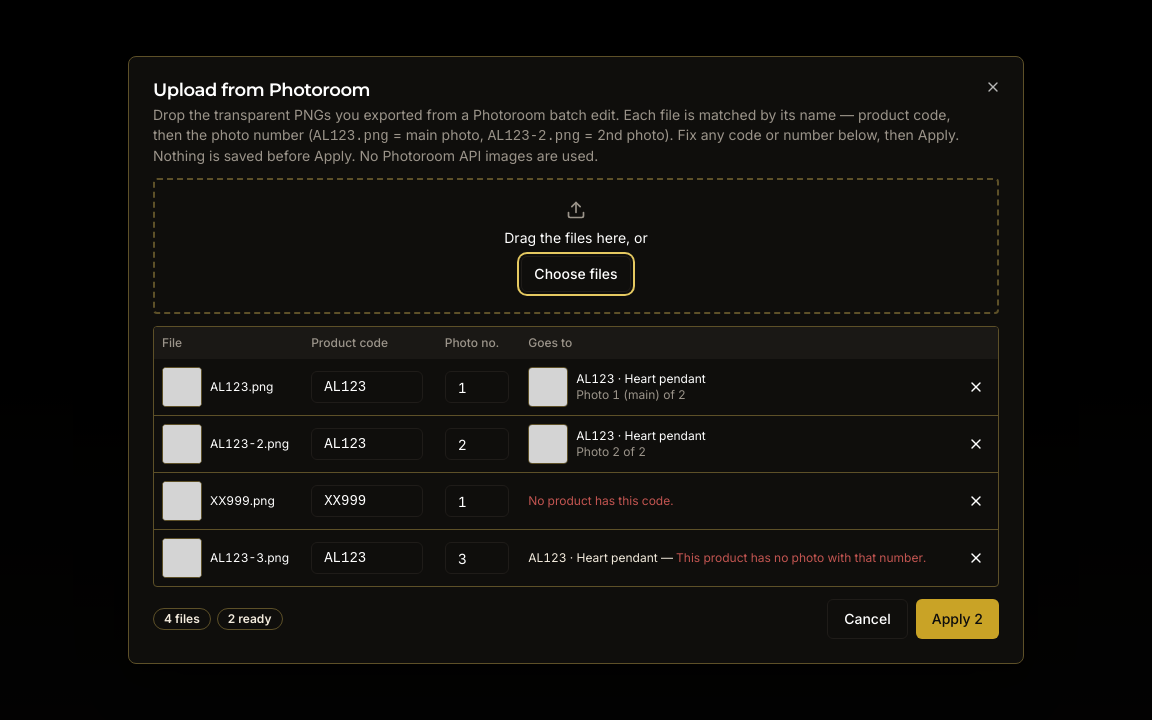
Upload from Photoroom window › matches by name, lets the code be edited, and applies only ready rows as own cut-outs
Earlier steps of the test are not shown.
Later steps or results of the test are not shown.
Expected: the number of rows with test id "bulk-row" is 4, [154, 359, 998, 416]; [154, 416, 998, 472]; [154, 472, 998, 530]; [154, 530, 998, 586]
Expected: the text "Photo 1 (main) of 2" is shown, [576, 387, 686, 402]
Step 1. Replace the text in the field named "Product code for XX999.png" with "al123" → (367, 501), box [311, 485, 423, 517]
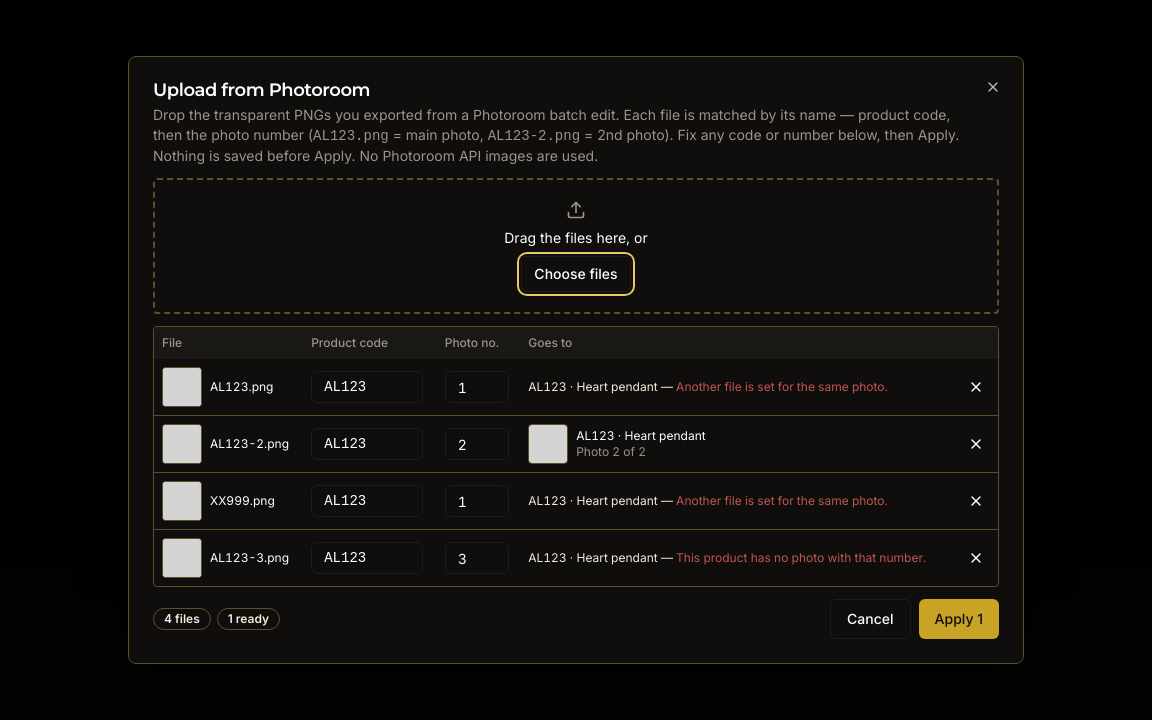
Result: the text "Another file is set for the same photo." in the row of "XX999.png" is shown at [676, 493, 888, 508]
Step 2. Click the button named "Remove XX999.png" → (976, 501), box [962, 487, 990, 515]
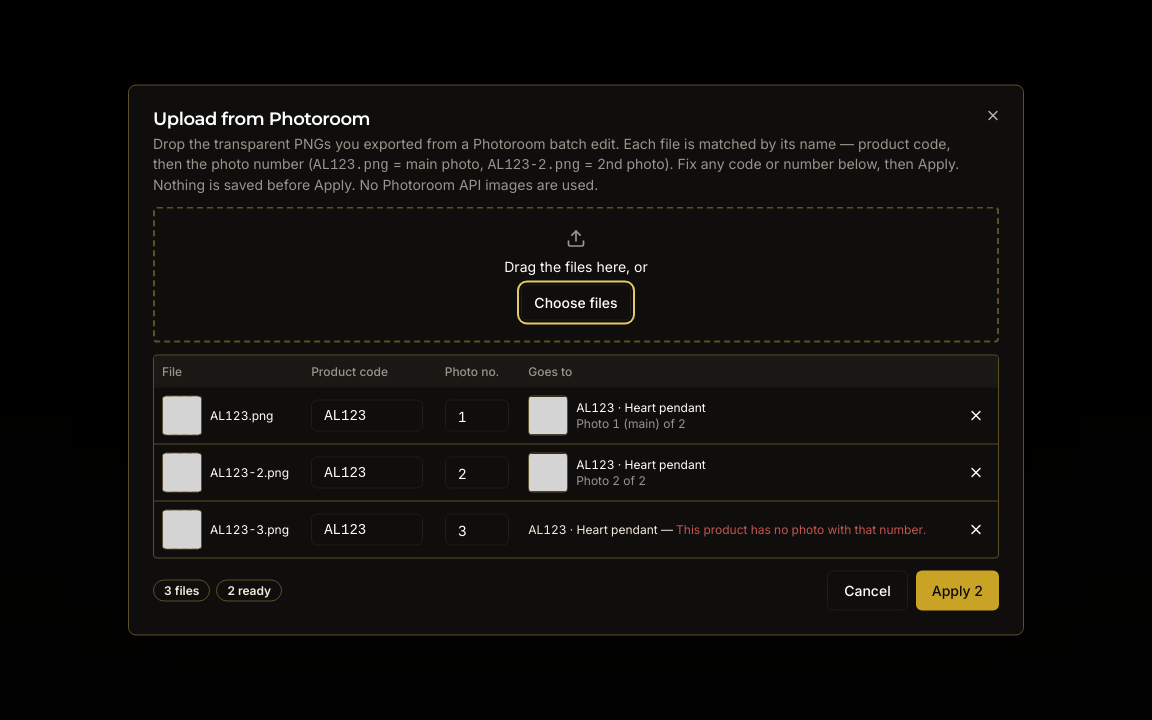
Step 3. Click the button named "Remove AL123-3.png" → (976, 530), box [962, 516, 990, 544]
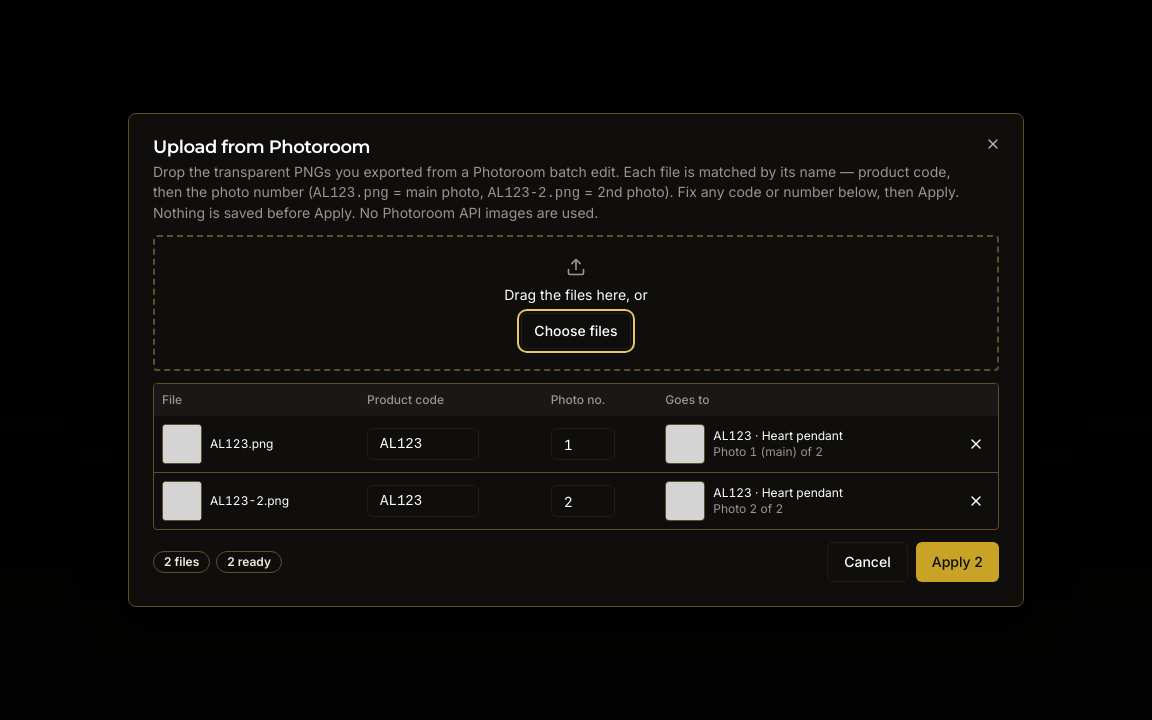
Step 4. Click the button "Apply 2" → (957, 562), box [916, 542, 999, 582]
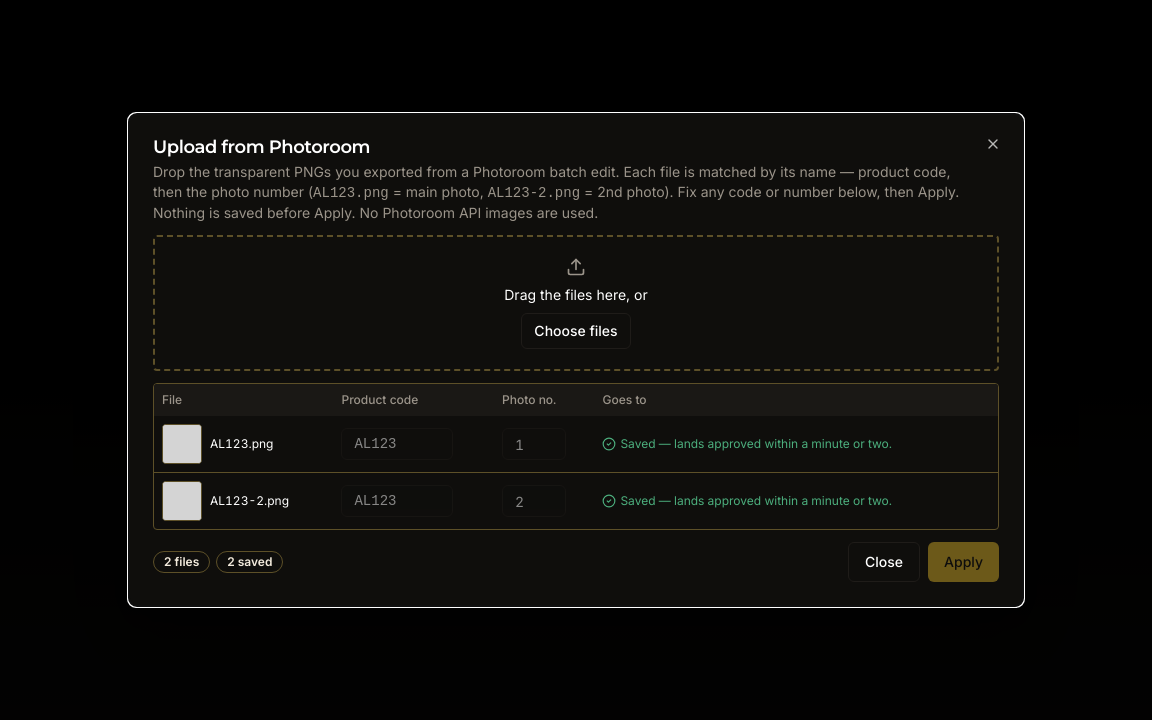
Result: the text "Saved — lands approved within a minute or two." is shown 2 times at [602, 436, 892, 451]; [602, 493, 892, 508]
